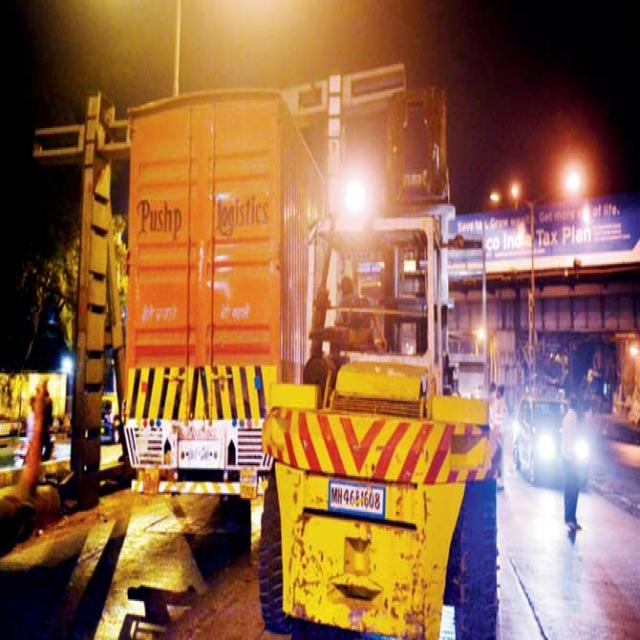truck: (261, 90, 498, 639), (125, 92, 322, 497)
